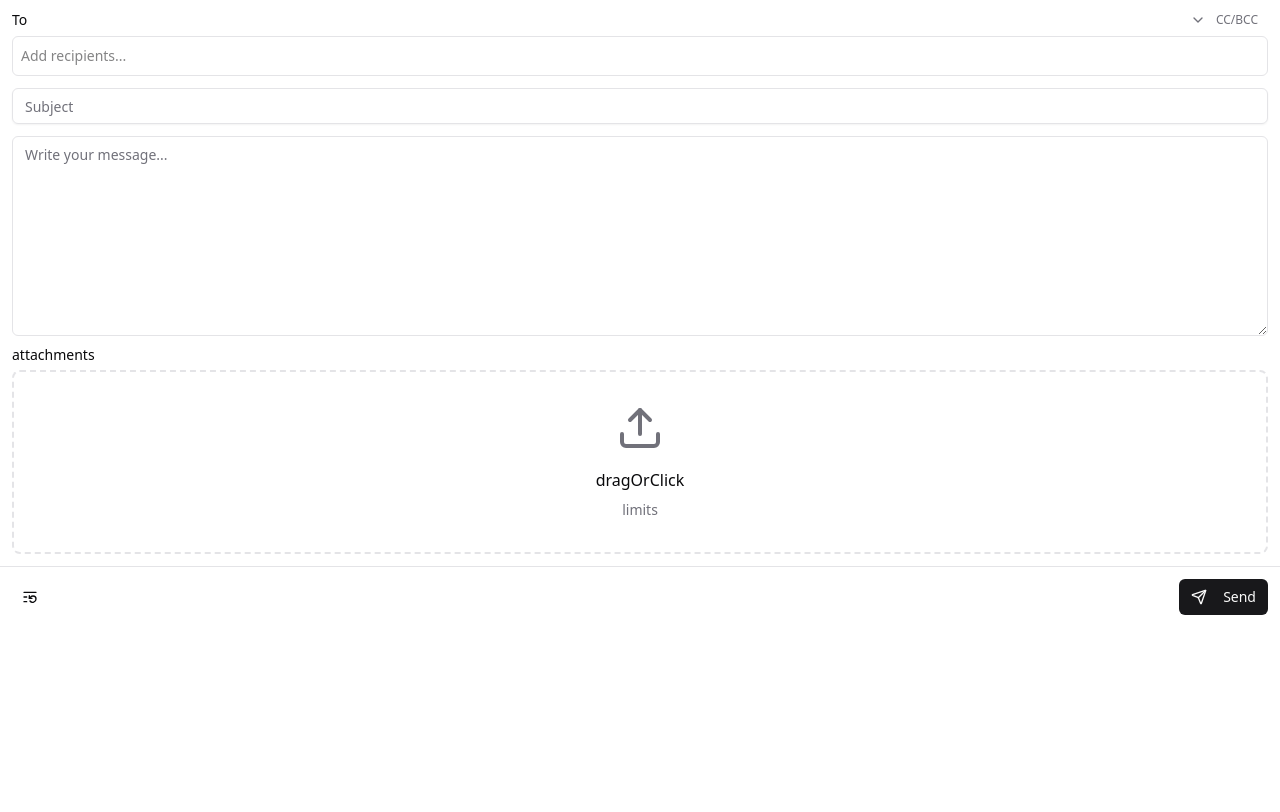
EmailComposerForm › email tag input › removes email badge when X is clicked
Step 1. Type "alice@example.com" into the field with placeholder "Add recipients..." → (640, 56), box [21,45,1259,67]
Then press Enter
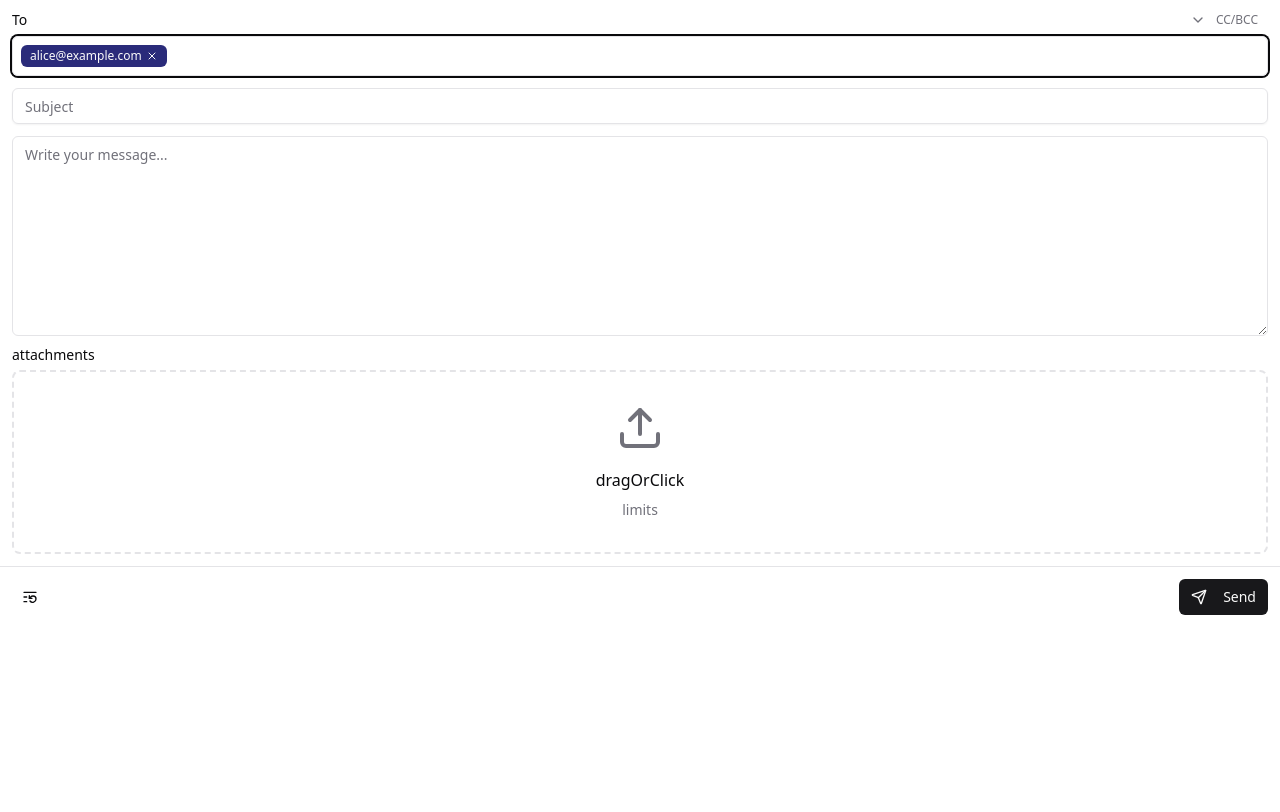
Expected: the text "alice@example.com" is shown, [21,45,167,67]
Expected: the icon next to "alice@example.com" is shown
Step 2. Click the icon next to "alice@example.com" → (152, 56), box [146,50,158,62]
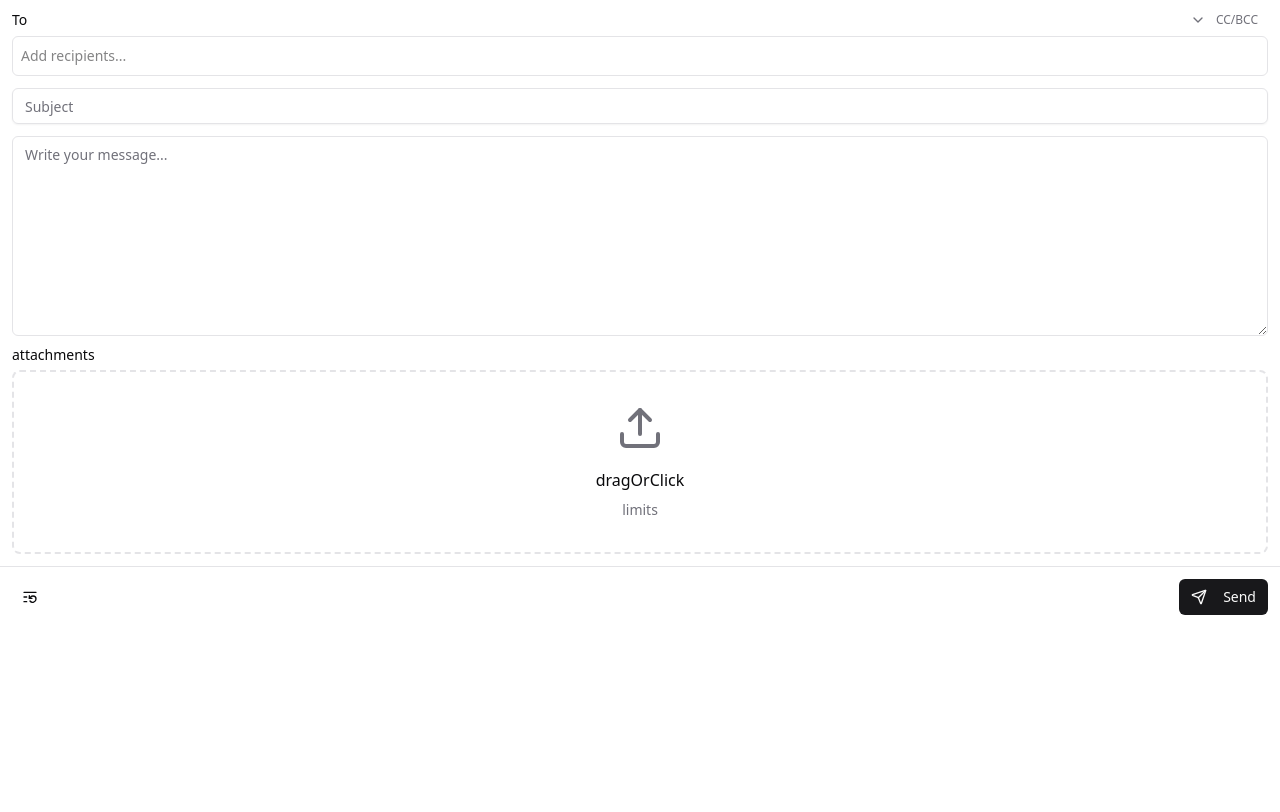
Expected: the text "alice@example.com" is gone
